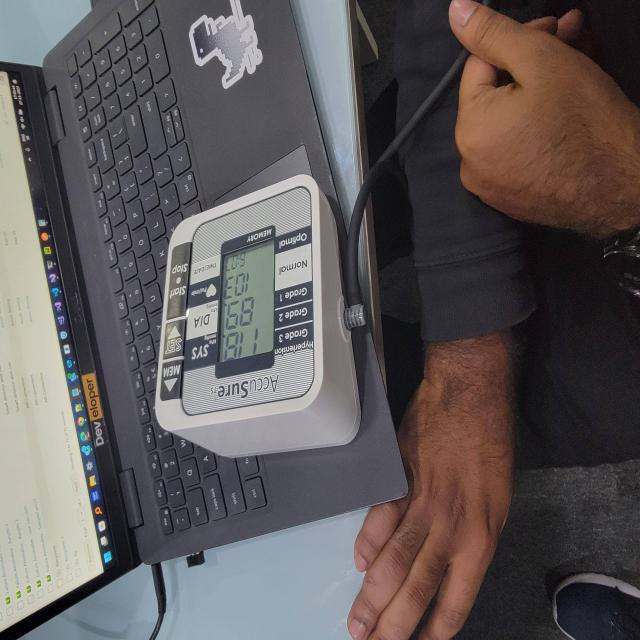bp: (161, 167, 368, 485)
